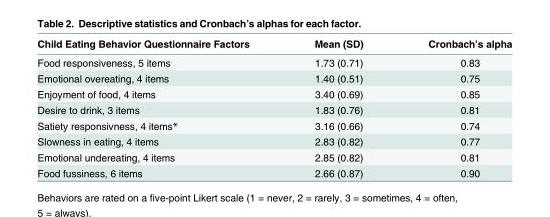table: (36, 37, 511, 178)
table column: (36, 37, 281, 178), (395, 37, 511, 178), (281, 37, 395, 178)
table column header: (36, 37, 511, 52)
table row: (36, 52, 511, 70), (36, 85, 511, 101), (36, 101, 511, 117), (36, 117, 511, 133), (36, 148, 511, 164), (36, 37, 511, 52), (36, 70, 511, 85), (36, 133, 511, 148), (36, 164, 511, 178)
